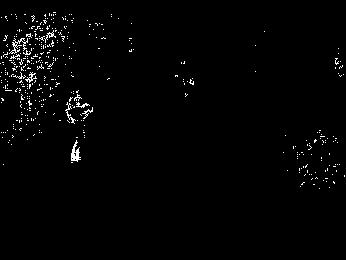person: (66, 89, 93, 163)
